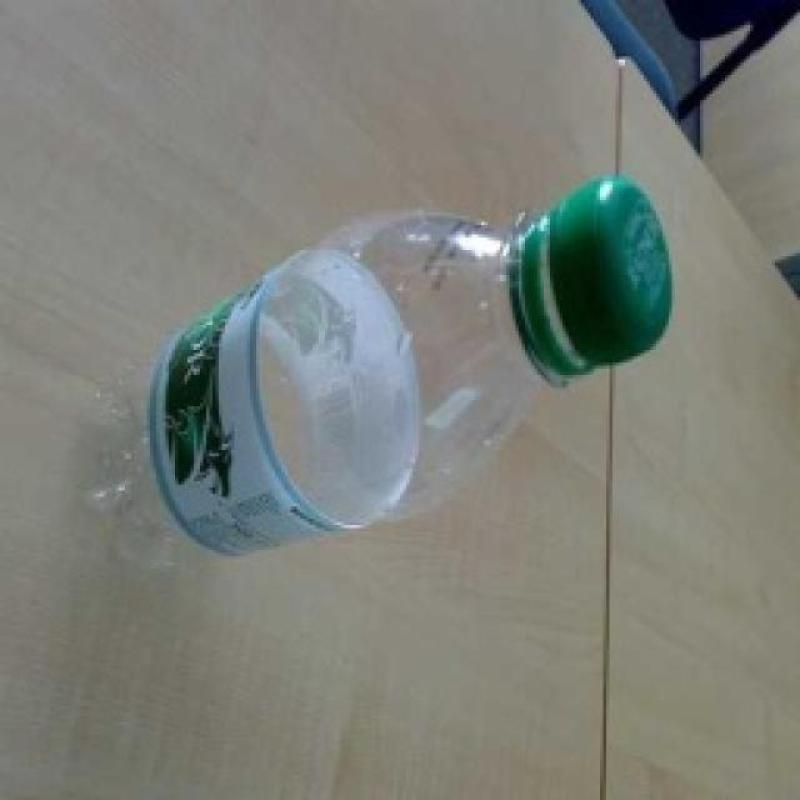botella: (86, 178, 674, 582)
